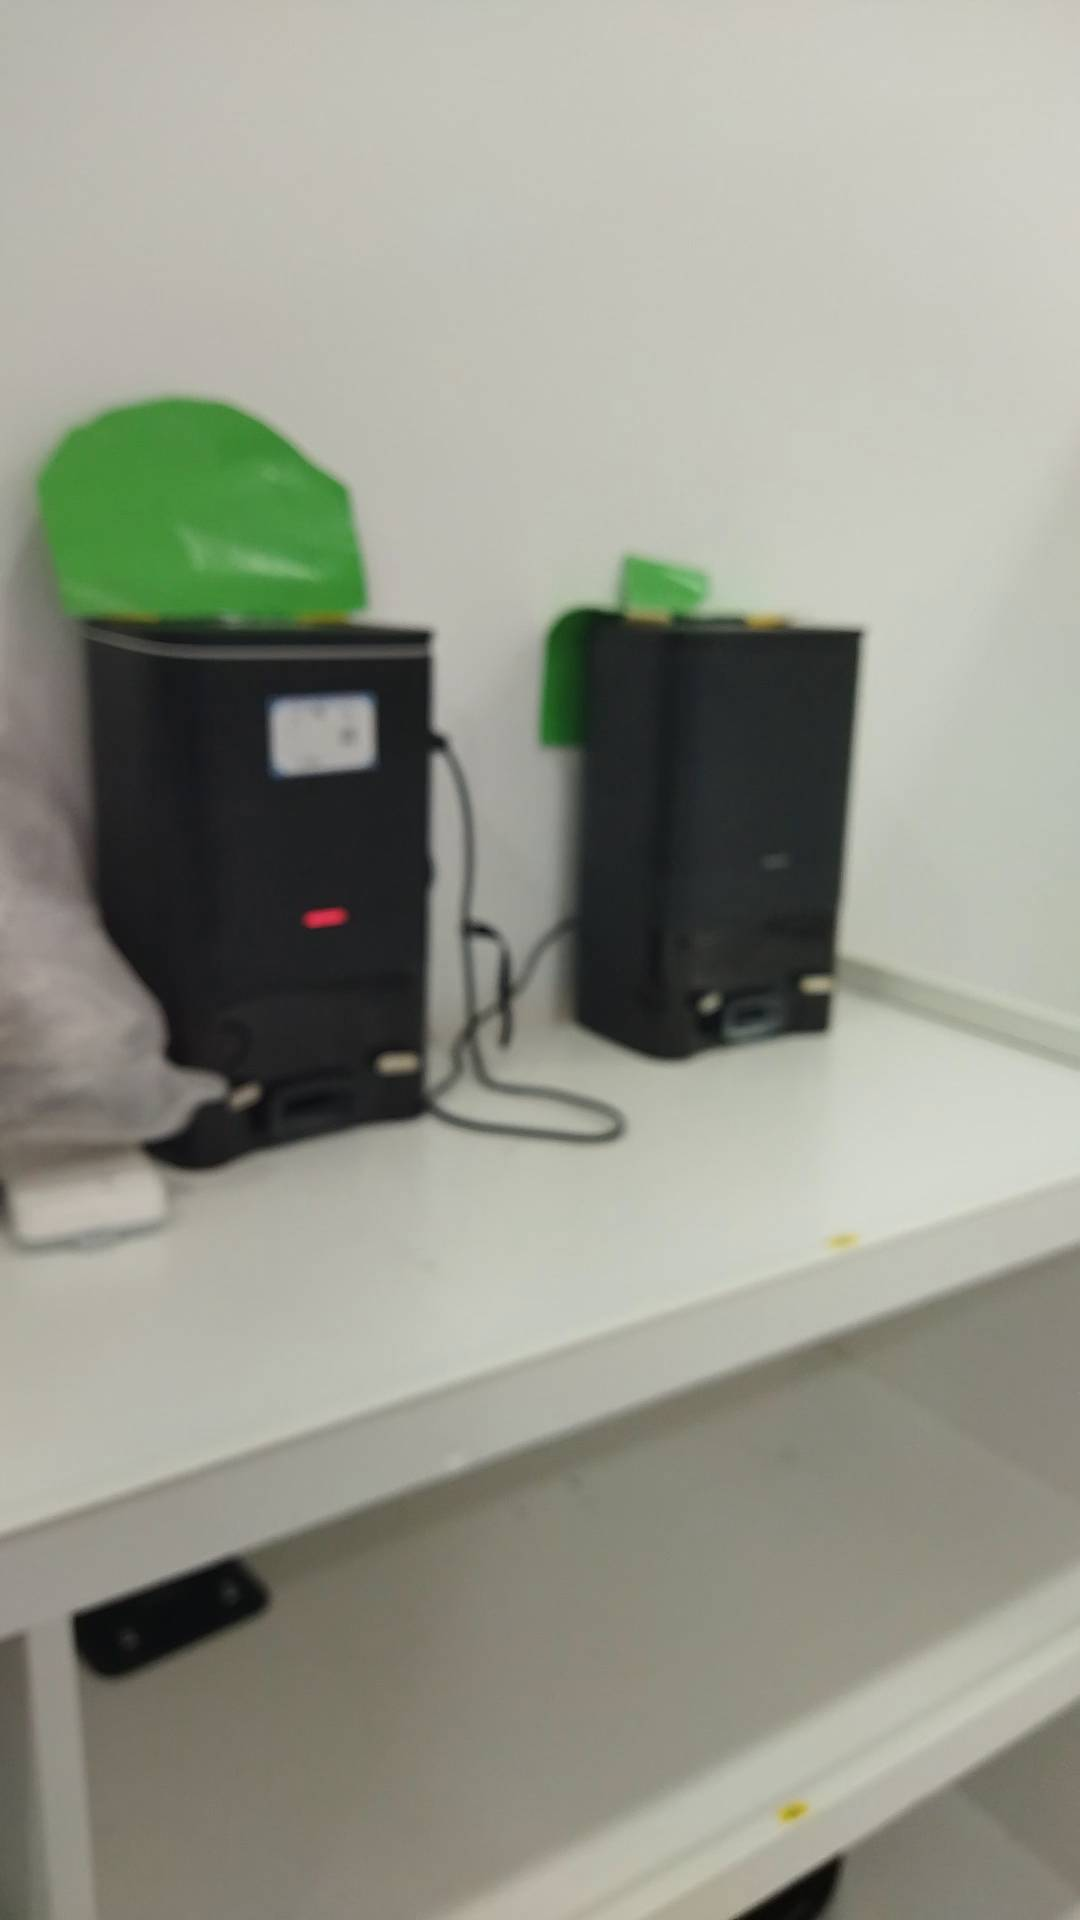dust collecting barrel: (90, 615, 435, 1168), (583, 618, 869, 1063)
